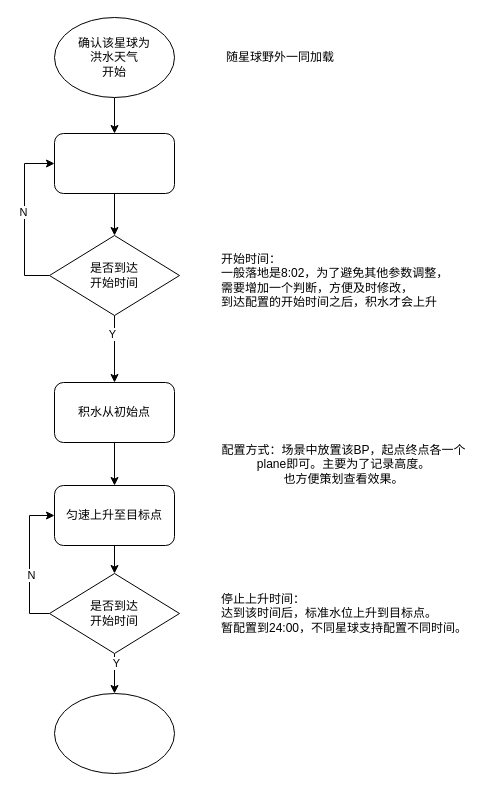
The diagram is 486 pixels wide and 791 high, and some of its shapes have lost their labels. The centre of each missing label's shape, as x and y in pixels:
等待: the point at 114,163
结束: the point at 114,733
